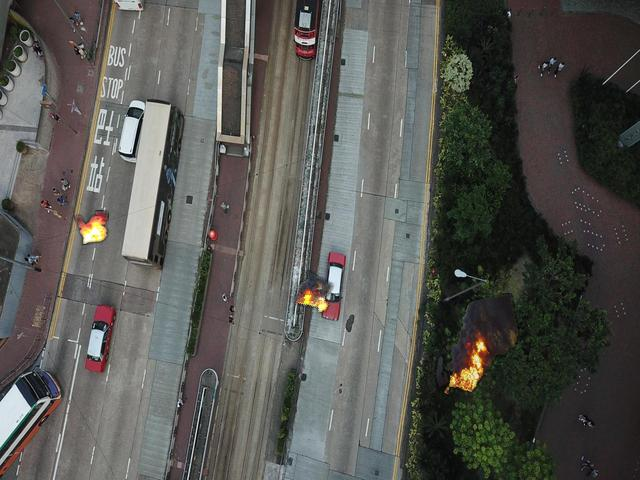fire: (434, 293, 518, 396), (291, 271, 335, 314), (75, 211, 107, 243)
